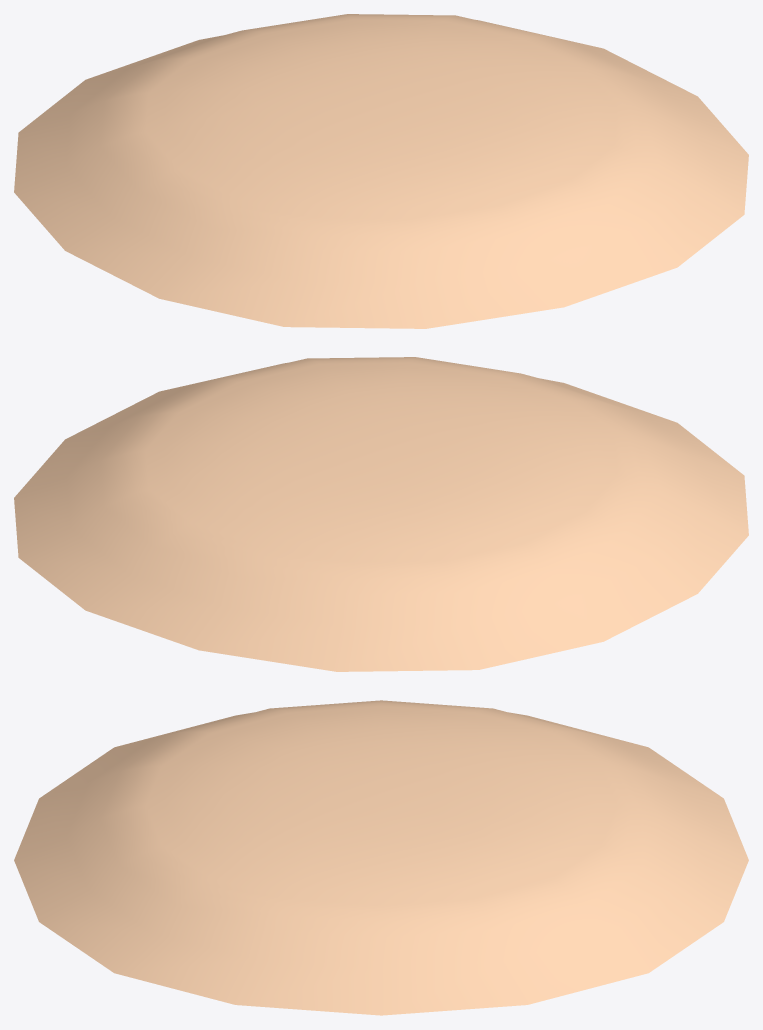
Rendered from ground.fbx.
3 views of the same model, one above another, from view 1: azimuth 30°, elevation 25°; view 2: azimuth 150°, elevation 25°; view 3: azimuth 270°, elevation 25° (orthographic).
Parts seen in each view (by area): view 1: ground; view 2: ground; view 3: ground.
Part boxes in pixels (box(x1,y1,x2,y2)): ground: box(14, 14, 748, 328); ground: box(14, 357, 748, 671); ground: box(14, 700, 748, 1015).
Bounding box in the file's own units: 1175 × 126 × 1175.
